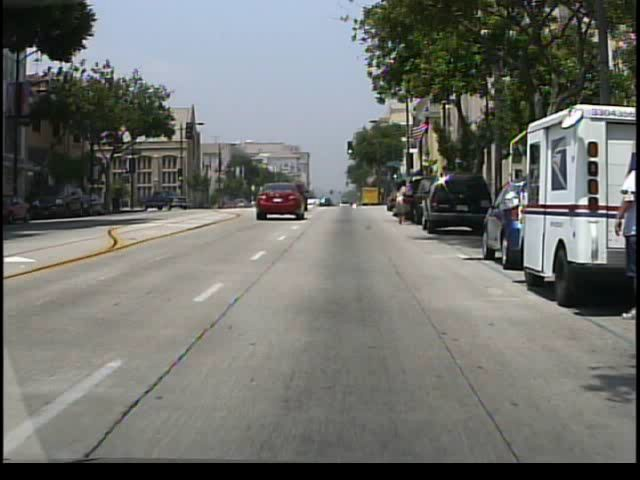person: (606, 155, 636, 318), (391, 178, 413, 225)
